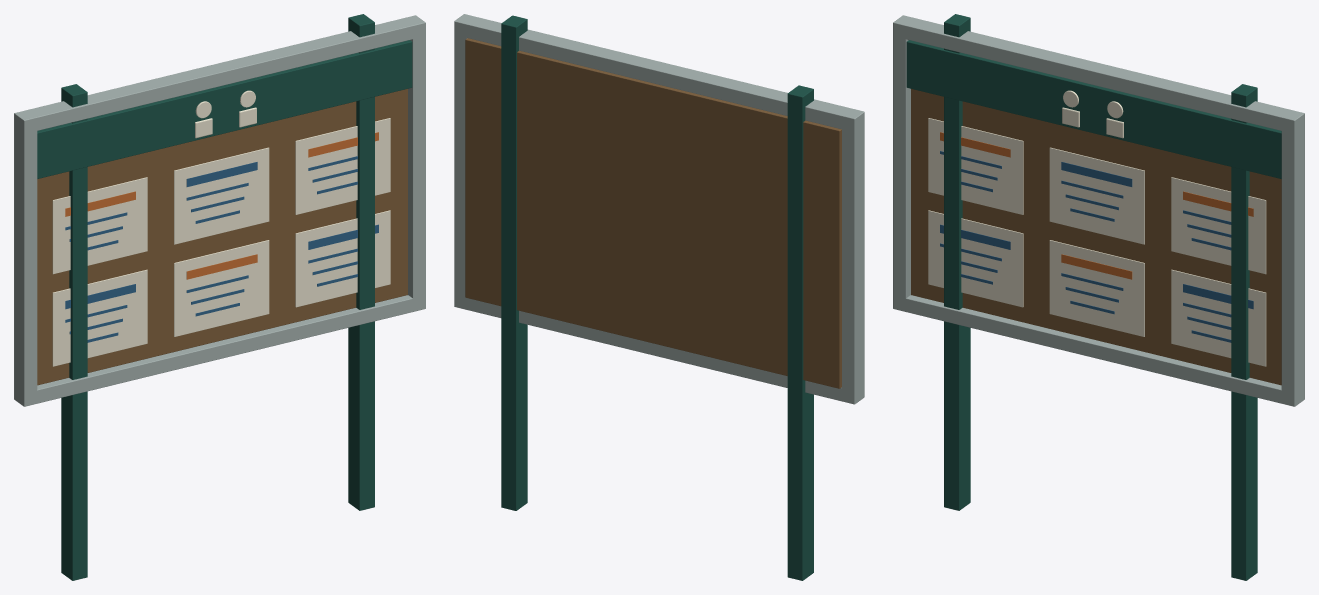
3 views of the same model, side by side, from view 1: azimuth 30°, elevation 25°; view 2: azimuth 150°, elevation 25°; view 3: azimuth 330°, elevation 25° (orthographic).
Parts seen in each view (by area): view 1: BOARD_Backing, HEADER_Green, FRAME_Rail.001, SUPPORT_Post, SUPPORT_Post.001, FRAME_Rail, FRAME_Side, PAPER_Sheet.001, PAPER_Sheet.004, PAPER_Sheet.003, PAPER_Sheet, PAPER_Sheet.002 (+4 smaller); view 2: BOARD_Backing, SUPPORT_Post, SUPPORT_Post.001, FRAME_Rail.001, FRAME_Side, FRAME_Rail, FRAME_Side.001; view 3: BOARD_Backing, HEADER_Green, FRAME_Rail.001, SUPPORT_Post.001, SUPPORT_Post, FRAME_Rail, FRAME_Side.001, PAPER_Sheet.001, PAPER_Sheet.004, PAPER_Sheet.005, PAPER_Sheet.002, PAPER_Sheet.003 (+4 smaller).
Boxes of the visible parts, x1=… form: BOARD_Backing: x1=37, y1=89, x2=407, y2=385; HEADER_Green: x1=37, y1=40, x2=412, y2=178; FRAME_Rail.001: x1=14, y1=15, x2=425, y2=133; SUPPORT_Post: x1=61, y1=84, x2=87, y2=580; SUPPORT_Post.001: x1=348, y1=14, x2=374, y2=510; FRAME_Rail: x1=14, y1=295, x2=425, y2=406; FRAME_Side: x1=14, y1=112, x2=37, y2=406; PAPER_Sheet.001: x1=174, y1=147, x2=269, y2=244; PAPER_Sheet.004: x1=174, y1=240, x2=269, y2=336; PAPER_Sheet.003: x1=52, y1=269, x2=147, y2=366; PAPER_Sheet: x1=52, y1=177, x2=147, y2=274; PAPER_Sheet.002: x1=295, y1=118, x2=390, y2=214; BOARD_Backing: x1=465, y1=38, x2=841, y2=388; SUPPORT_Post: x1=787, y1=85, x2=813, y2=580; SUPPORT_Post.001: x1=501, y1=15, x2=527, y2=510; FRAME_Rail.001: x1=454, y1=14, x2=864, y2=132; FRAME_Side: x1=842, y1=112, x2=864, y2=403; FRAME_Rail: x1=454, y1=294, x2=864, y2=404; FRAME_Side.001: x1=454, y1=23, x2=467, y2=309; BOARD_Backing: x1=911, y1=89, x2=1281, y2=385; HEADER_Green: x1=906, y1=40, x2=1281, y2=178; FRAME_Rail.001: x1=893, y1=15, x2=1304, y2=133; SUPPORT_Post.001: x1=1231, y1=84, x2=1257, y2=580; SUPPORT_Post: x1=944, y1=14, x2=970, y2=510; FRAME_Rail: x1=893, y1=295, x2=1304, y2=406; FRAME_Side.001: x1=1281, y1=112, x2=1304, y2=406; PAPER_Sheet.001: x1=1049, y1=147, x2=1144, y2=244; PAPER_Sheet.004: x1=1049, y1=240, x2=1144, y2=336; PAPER_Sheet.005: x1=1171, y1=269, x2=1266, y2=366; PAPER_Sheet.002: x1=1171, y1=177, x2=1266, y2=274; PAPER_Sheet.003: x1=928, y1=210, x2=1023, y2=307.
Size of the model in its own units: 1.82 by 2.1 by 0.11.
